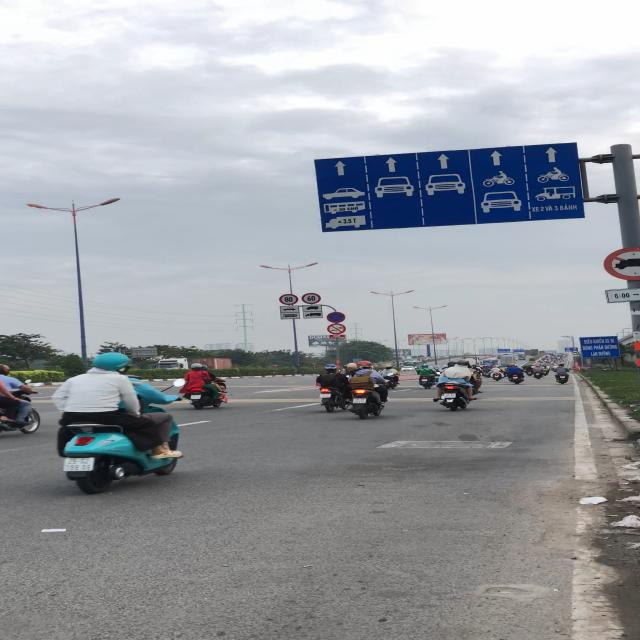Bien bao cam dung xe va do xe: (326, 312, 346, 323)
Bien bao toc do toi da cho phep: (279, 294, 299, 306), (302, 293, 322, 304)
